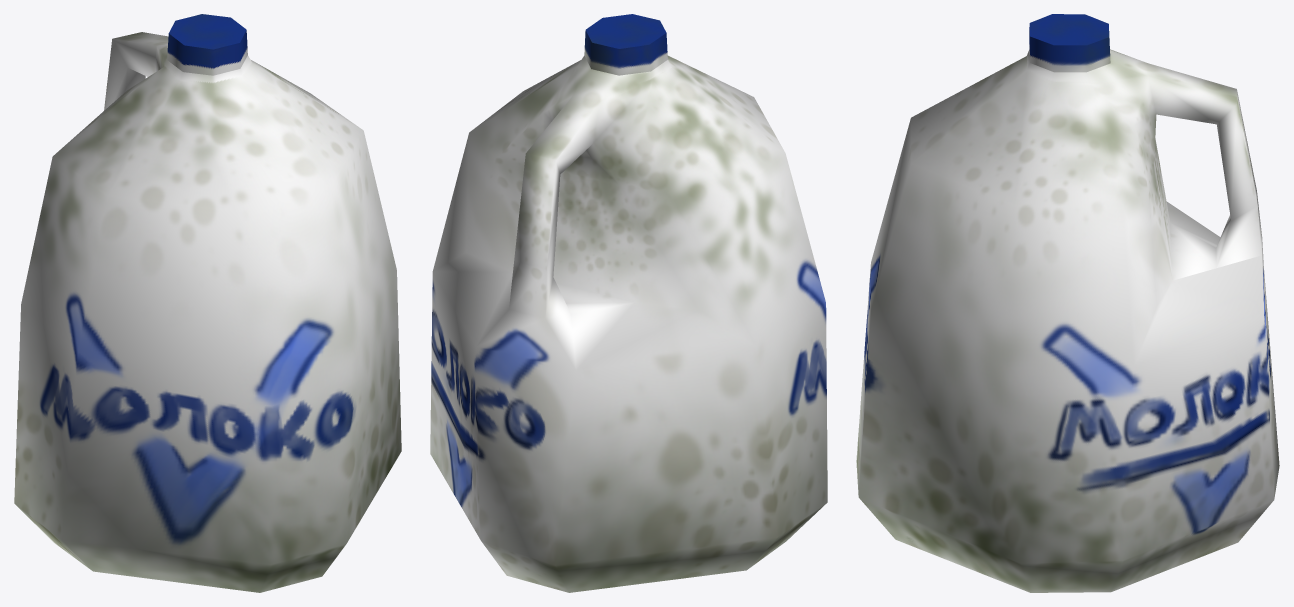
File: milk.glb
3 views of the same model, side by side, from view 1: azimuth 30°, elevation 25°; view 2: azimuth 150°, elevation 25°; view 3: azimuth 270°, elevation 25° (orthographic).
Visible parts, largest first — view 1: milkjug; view 2: milkjug; view 3: milkjug.
Part boxes in pixels (x1,y1,x2,y2): milkjug: (14,14,401,592); milkjug: (430,14,827,592); milkjug: (856,14,1279,592).
Size of the model in its own units: 0.7373 by 1.01 by 0.7771.
Materials: 1 (1 with a texture image).
